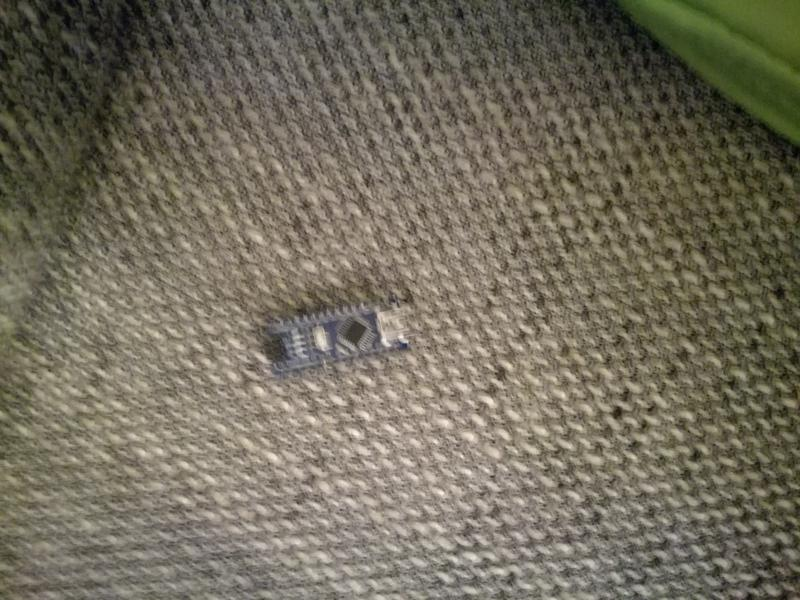Arduino_Nano: (259, 298, 421, 376)
